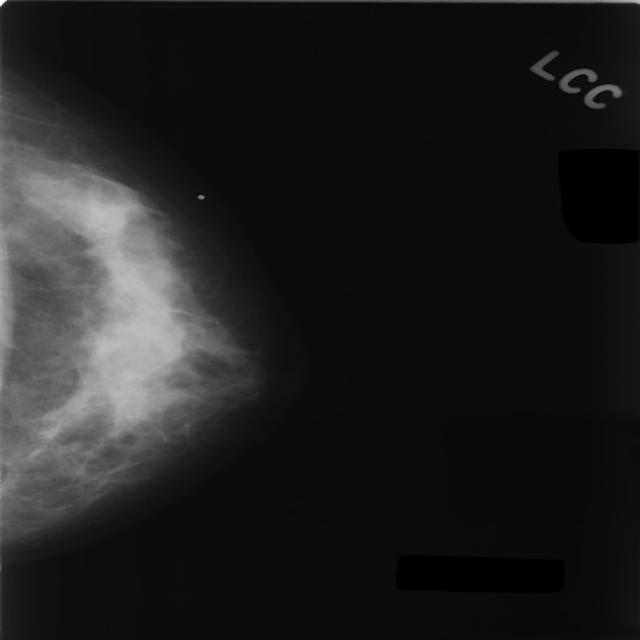tumour: (58, 172, 141, 228)
